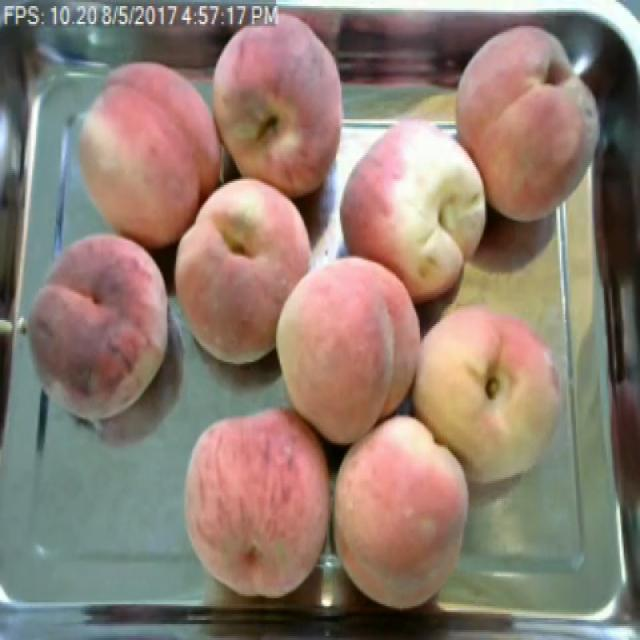Fruit: (439, 10, 620, 238), (397, 292, 583, 493), (172, 398, 347, 608), (320, 400, 481, 620), (15, 221, 178, 437), (263, 243, 425, 459), (166, 165, 326, 378), (326, 127, 506, 316), (71, 52, 233, 256), (204, 4, 357, 215)
